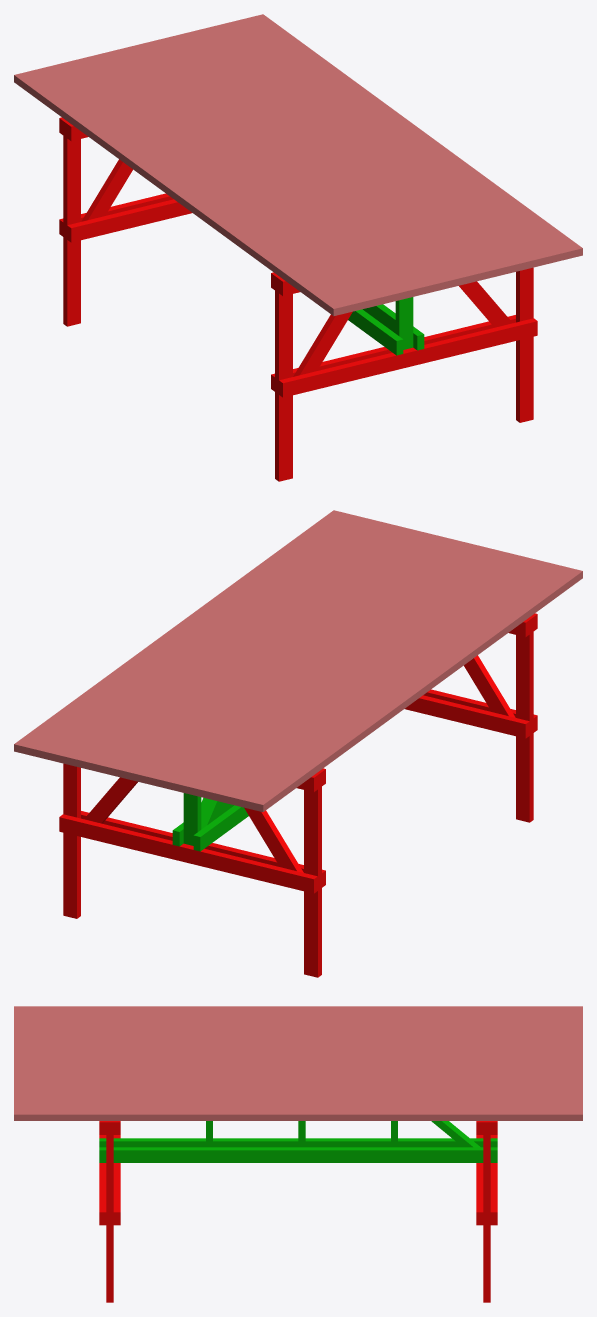
Rendered from result.glb.
3 renders of one model, top to bottom at view 1: azimuth 30°, elevation 25°; view 2: azimuth 150°, elevation 25°; view 3: azimuth 270°, elevation 25°, orthographic. The views are drawn at different scales.
Parts seen in each view (by area): view 1: 35cc4d2e-a926-4248-aba8-7024de48695e__Box, df3dfa93-54f8-4ae4-8b00-182627ba23a1__sideH, 7574fb6c-330c-4f73-9802-167355c15160__undefined, 079bb6d1-fc1e-4da6-904b-e4be319462ec__undefined, 16e53eb6-f97c-4f78-91a9-1db3d356497c__undefined, c1bb5740-cedd-4743-8079-9934eb7db749__undefined, 07c03423-4627-416f-a97a-671ac7099a1a__undefined, bf629584-8f17-482a-9bb6-16e857b07e9e__undefined, a31685fa-baaf-46b6-955a-c140664c33c4__undefined, 906c0786-4da9-4e7a-9deb-3c2a17abc59d__undefined, bb997d32-9440-437f-b51d-b9cf2ebf5105__undefined, 6937ab8b-de1c-4bd6-bfd5-46e203a629a2__undefined (+19 smaller); view 2: 35cc4d2e-a926-4248-aba8-7024de48695e__Box, f820987b-0a81-444c-b2ab-7dc85004596e__undefined, 7574fb6c-330c-4f73-9802-167355c15160__undefined, 079bb6d1-fc1e-4da6-904b-e4be319462ec__undefined, 16e53eb6-f97c-4f78-91a9-1db3d356497c__undefined, c1bb5740-cedd-4743-8079-9934eb7db749__undefined, 07c03423-4627-416f-a97a-671ac7099a1a__undefined, bf629584-8f17-482a-9bb6-16e857b07e9e__undefined, a31685fa-baaf-46b6-955a-c140664c33c4__undefined, 906c0786-4da9-4e7a-9deb-3c2a17abc59d__undefined, bb997d32-9440-437f-b51d-b9cf2ebf5105__undefined, 6937ab8b-de1c-4bd6-bfd5-46e203a629a2__undefined (+18 smaller); view 3: 0adfd48e-e492-4d02-ba82-ddaea8fb7cae__undefined, d7fd8e0a-ec0f-435e-90b8-4aa656b9e2e3__strutH, 35cc4d2e-a926-4248-aba8-7024de48695e__Box, 079bb6d1-fc1e-4da6-904b-e4be319462ec__undefined, 07c03423-4627-416f-a97a-671ac7099a1a__undefined, ff4474e7-927e-43fc-81d4-c411674633ea__undefined, bb997d32-9440-437f-b51d-b9cf2ebf5105__undefined, fa48455e-ad60-4dae-804b-d63b7f8bf0ac__undefined, 6937ab8b-de1c-4bd6-bfd5-46e203a629a2__undefined, 16e53eb6-f97c-4f78-91a9-1db3d356497c__undefined, a31685fa-baaf-46b6-955a-c140664c33c4__undefined, bf629584-8f17-482a-9bb6-16e857b07e9e__undefined (+15 smaller).
Part boxes in pixels (left/top/right/bottom): 35cc4d2e-a926-4248-aba8-7024de48695e__Box: left=14, top=71, right=347, bottom=315; df3dfa93-54f8-4ae4-8b00-182627ba23a1__sideH: left=279, top=318, right=537, bottom=397; 7574fb6c-330c-4f73-9802-167355c15160__undefined: left=208, top=24, right=541, bottom=268; 079bb6d1-fc1e-4da6-904b-e4be319462ec__undefined: left=28, top=68, right=361, bottom=312; 16e53eb6-f97c-4f78-91a9-1db3d356497c__undefined: left=111, top=48, right=444, bottom=292; c1bb5740-cedd-4743-8079-9934eb7db749__undefined: left=194, top=27, right=527, bottom=272; 07c03423-4627-416f-a97a-671ac7099a1a__undefined: left=42, top=65, right=375, bottom=309; bf629584-8f17-482a-9bb6-16e857b07e9e__undefined: left=139, top=41, right=472, bottom=285; a31685fa-baaf-46b6-955a-c140664c33c4__undefined: left=125, top=44, right=458, bottom=288; 906c0786-4da9-4e7a-9deb-3c2a17abc59d__undefined: left=222, top=21, right=555, bottom=265; bb997d32-9440-437f-b51d-b9cf2ebf5105__undefined: left=69, top=58, right=402, bottom=302; 6937ab8b-de1c-4bd6-bfd5-46e203a629a2__undefined: left=97, top=51, right=430, bottom=295; 35cc4d2e-a926-4248-aba8-7024de48695e__Box: left=249, top=567, right=582, bottom=811; f820987b-0a81-444c-b2ab-7dc85004596e__undefined: left=59, top=814, right=317, bottom=893; 7574fb6c-330c-4f73-9802-167355c15160__undefined: left=55, top=520, right=388, bottom=764; 079bb6d1-fc1e-4da6-904b-e4be319462ec__undefined: left=235, top=564, right=568, bottom=808; 16e53eb6-f97c-4f78-91a9-1db3d356497c__undefined: left=152, top=544, right=485, bottom=788; c1bb5740-cedd-4743-8079-9934eb7db749__undefined: left=69, top=523, right=402, bottom=768; 07c03423-4627-416f-a97a-671ac7099a1a__undefined: left=221, top=561, right=554, bottom=805; bf629584-8f17-482a-9bb6-16e857b07e9e__undefined: left=124, top=537, right=457, bottom=781; a31685fa-baaf-46b6-955a-c140664c33c4__undefined: left=138, top=540, right=471, bottom=784; 906c0786-4da9-4e7a-9deb-3c2a17abc59d__undefined: left=41, top=517, right=374, bottom=761; bb997d32-9440-437f-b51d-b9cf2ebf5105__undefined: left=194, top=554, right=527, bottom=798; 6937ab8b-de1c-4bd6-bfd5-46e203a629a2__undefined: left=166, top=547, right=499, bottom=791; 0adfd48e-e492-4d02-ba82-ddaea8fb7cae__undefined: left=14, top=1108, right=582, bottom=1120; d7fd8e0a-ec0f-435e-90b8-4aa656b9e2e3__strutH: left=99, top=1147, right=497, bottom=1162; 35cc4d2e-a926-4248-aba8-7024de48695e__Box: left=14, top=1006, right=582, bottom=1012; 079bb6d1-fc1e-4da6-904b-e4be319462ec__undefined: left=14, top=1012, right=582, bottom=1018; 07c03423-4627-416f-a97a-671ac7099a1a__undefined: left=14, top=1018, right=582, bottom=1024; ff4474e7-927e-43fc-81d4-c411674633ea__undefined: left=14, top=1024, right=582, bottom=1030; bb997d32-9440-437f-b51d-b9cf2ebf5105__undefined: left=14, top=1030, right=582, bottom=1036; fa48455e-ad60-4dae-804b-d63b7f8bf0ac__undefined: left=14, top=1036, right=582, bottom=1042; 6937ab8b-de1c-4bd6-bfd5-46e203a629a2__undefined: left=14, top=1042, right=582, bottom=1048; 16e53eb6-f97c-4f78-91a9-1db3d356497c__undefined: left=14, top=1048, right=582, bottom=1054; a31685fa-baaf-46b6-955a-c140664c33c4__undefined: left=14, top=1054, right=582, bottom=1060; bf629584-8f17-482a-9bb6-16e857b07e9e__undefined: left=14, top=1060, right=582, bottom=1066.
Size of the model in its own units: 920 by 725 by 2000.
